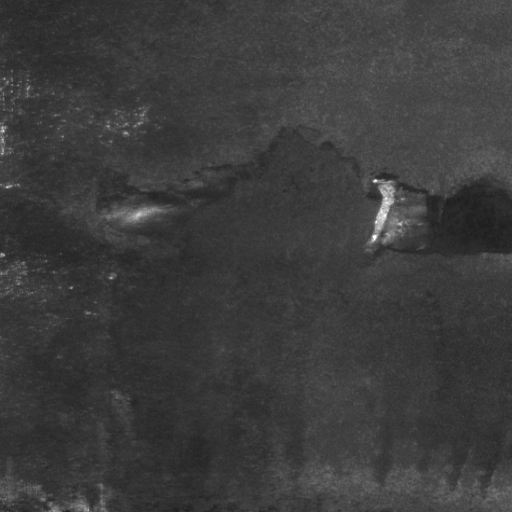aokeng: (361, 168, 512, 260), (95, 160, 250, 239)
